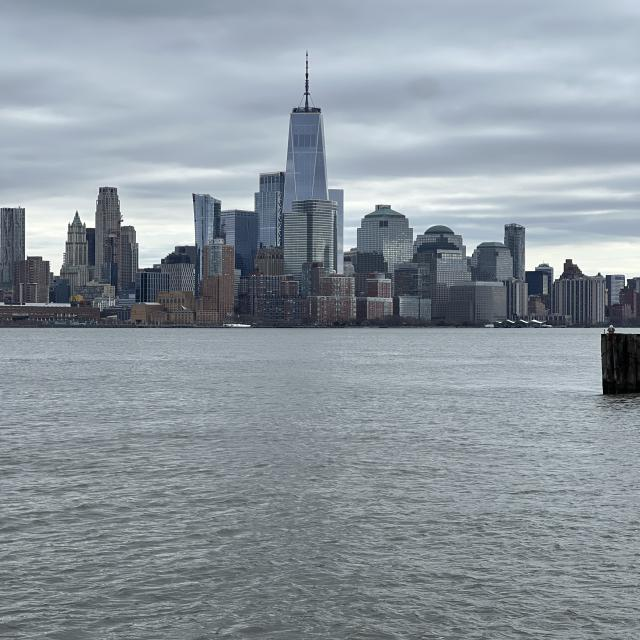WTC: (282, 50, 330, 206)
